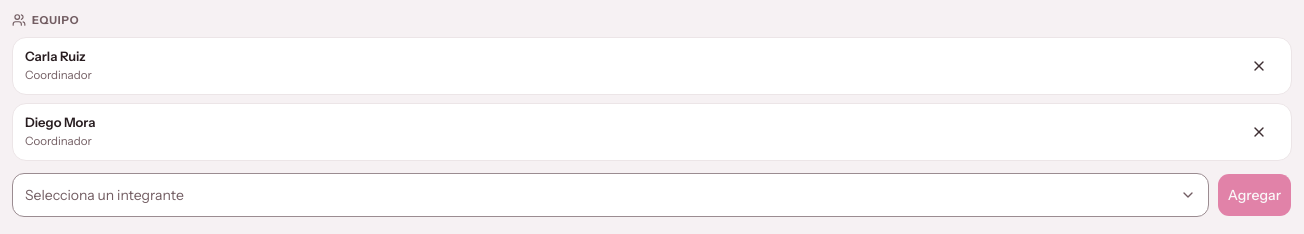
Test: ProjectTeam › lets a manager remove a member
Click the button named "Quitar a Carla Ruiz".
click(1259, 66)  # box [1239, 46, 1279, 86]
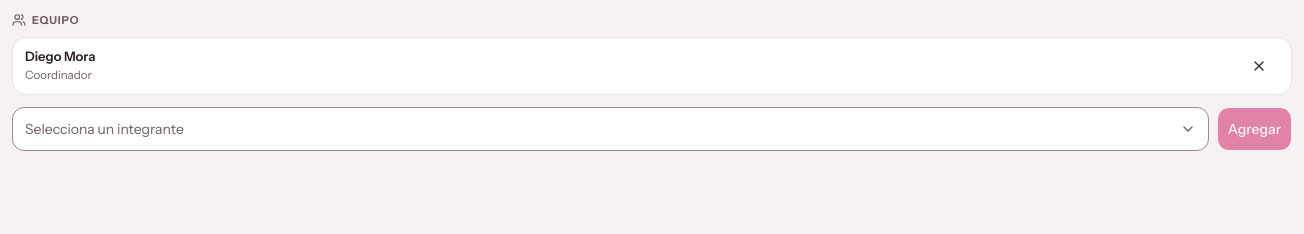
Expected: the number of list items with test id "equipo-integrante" is 1, [12, 36, 1292, 94]
